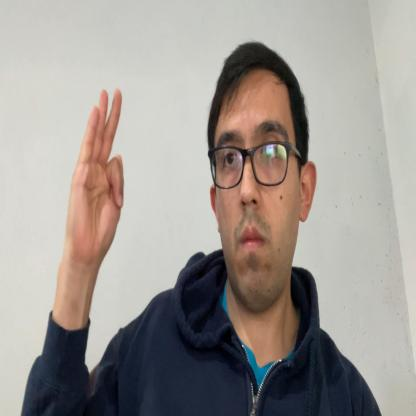F: (66, 88, 124, 265)
